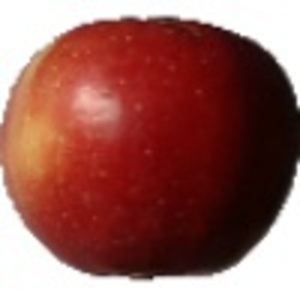maçã braeburn: (1, 13, 299, 281)
